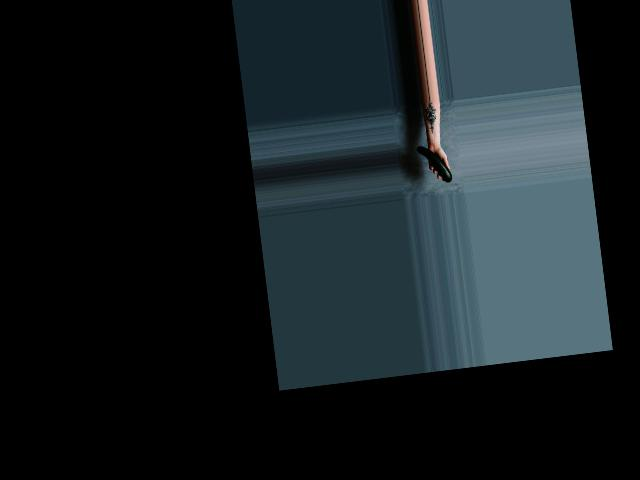cucumber: (416, 143, 452, 186)
